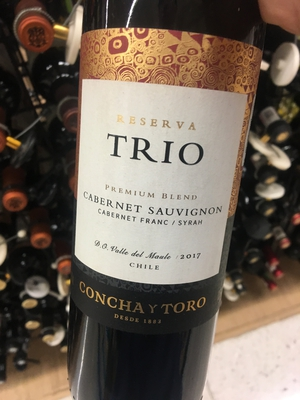trio cabernet sauvignon: (65, 9, 269, 400)
